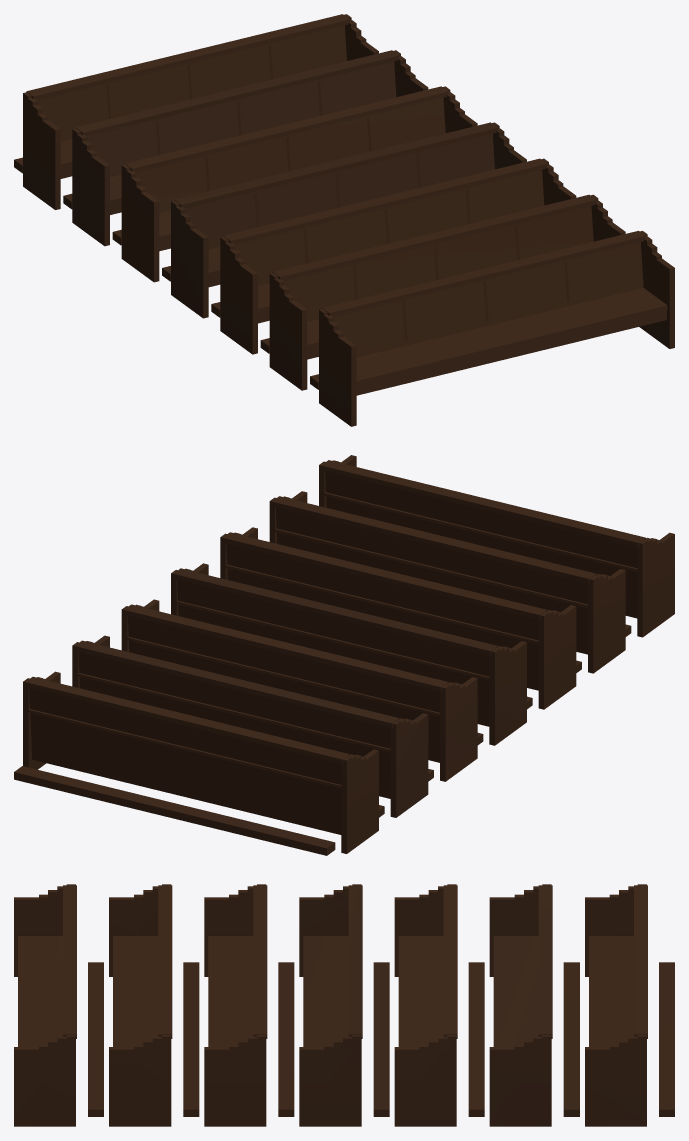
Rendered from seat.pew_rows.dark.glb.
3 renders of one model, top to bottom at view 1: azimuth 30°, elevation 25°; view 2: azimuth 150°, elevation 25°; view 3: azimuth 270°, elevation 25°, orthographic. The views are drawn at different scales.
Parts seen in each view (by area): view 1: seat_pew_rows_dark; view 2: seat_pew_rows_dark; view 3: seat_pew_rows_dark.
Boxes of the visible parts, <box> form: seat_pew_rows_dark: <box>14,14,674,426</box>; seat_pew_rows_dark: <box>14,455,674,855</box>; seat_pew_rows_dark: <box>14,884,674,1126</box>.
Size of what is drawn, in the model's own units: 3.6 by 1 by 6.6.
